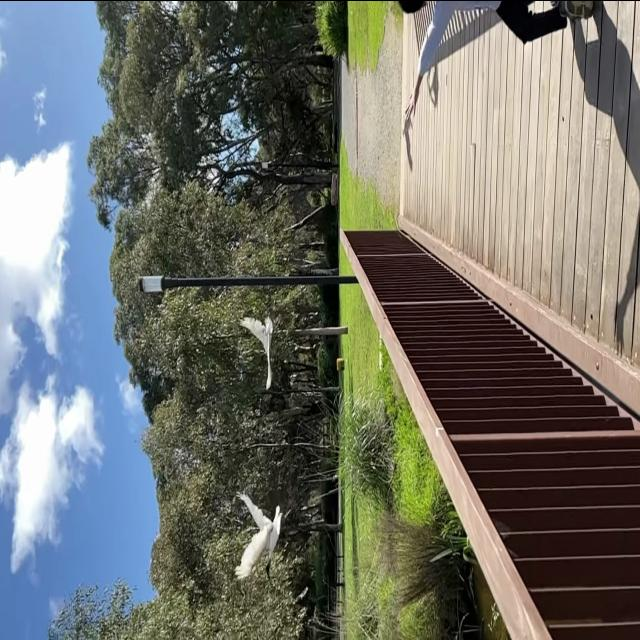Birds-Ibis: (232, 490, 296, 590), (236, 310, 278, 394)
